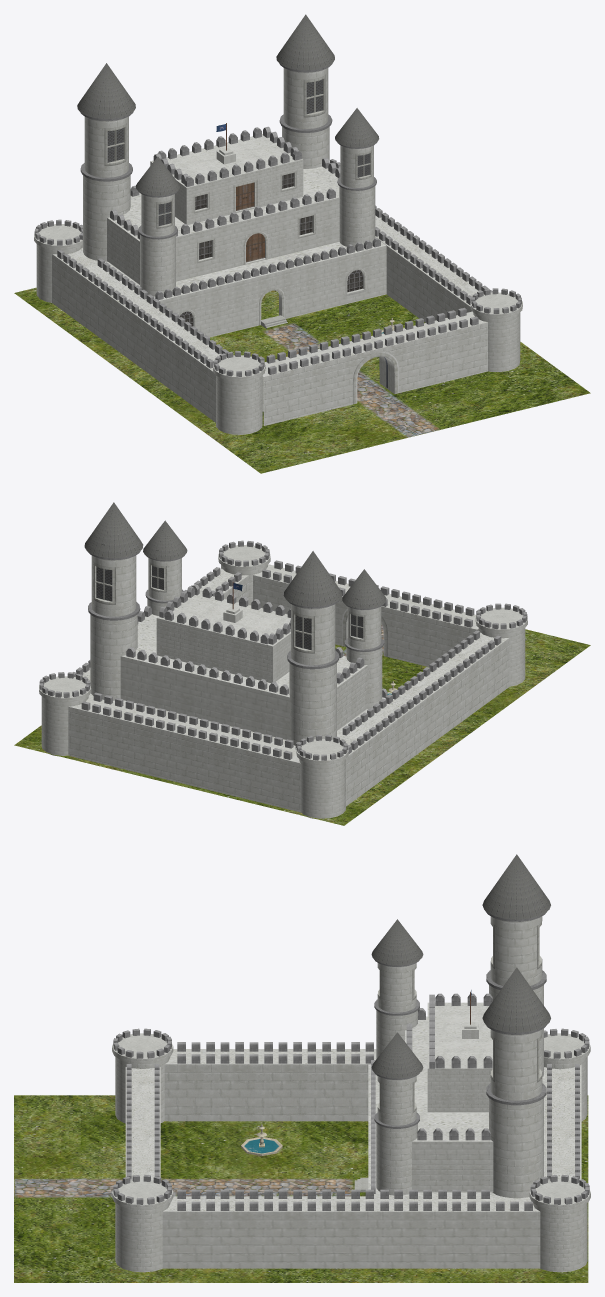
The model's file is CastleOB_1.obj.
The picture shows the model from 3 angles, top to bottom: view 1: azimuth 30°, elevation 25°; view 2: azimuth 150°, elevation 25°; view 3: azimuth 270°, elevation 25°; orthographic projection. The views are drawn at different scales.
Visible parts, largest first — view 1: Castle_Exterior, Castle_Interior, Ground_and_Fountain, Towers_Doors_and_Windows; view 2: Castle_Exterior, Towers_Doors_and_Windows, Castle_Interior, Ground_and_Fountain; view 3: Castle_Exterior, Ground_and_Fountain, Towers_Doors_and_Windows, Castle_Interior.
Part boxes in pixels (x1,y1,x2,y2): Castle_Exterior: (34,159,522,434); Castle_Interior: (81,123,386,337); Ground_and_Fountain: (14,287,590,473); Towers_Doors_and_Windows: (77,14,387,387); Castle_Exterior: (39,540,527,818); Towers_Doors_and_Windows: (84,502,386,745); Castle_Interior: (89,581,387,746); Ground_and_Fountain: (14,623,590,825); Castle_Exterior: (112,1028,590,1272); Ground_and_Fountain: (14,1095,588,1282); Towers_Doors_and_Windows: (354,854,550,1198); Castle_Interior: (368,990,544,1196).
Bounding box in the file's own units: 58.11 × 40.26 × 75.6.
Materials: 4 (4 with a texture image).
